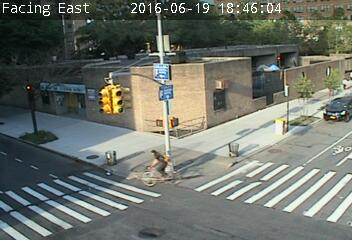neg: (139, 144, 169, 185), (17, 73, 47, 113), (74, 45, 99, 78), (57, 179, 81, 212), (267, 173, 291, 205), (303, 123, 325, 151), (62, 130, 83, 158), (110, 87, 131, 115), (214, 83, 235, 110), (99, 148, 120, 175), (278, 66, 298, 93), (189, 27, 209, 54), (223, 137, 243, 162), (278, 110, 296, 134), (219, 186, 237, 210), (157, 76, 173, 98), (276, 34, 290, 53)
